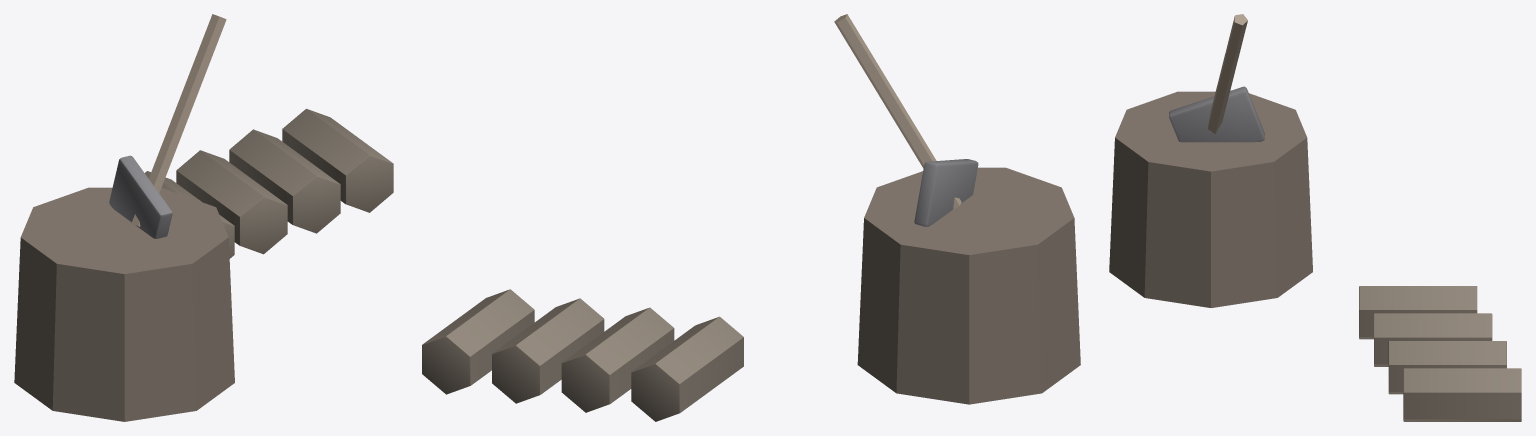
File: chopping_block.gltf
3 renders of one model, left to right at view 1: azimuth 30°, elevation 25°; view 2: azimuth 150°, elevation 25°; view 3: azimuth 270°, elevation 25°, orthographic. The views are drawn at different scales.
Visible parts, largest first — view 1: Body; view 2: Body; view 3: Body.
Part boxes in pixels (x1,y1,x2,y2): Body: [14, 14, 393, 421]; Body: [422, 14, 1080, 421]; Body: [1109, 14, 1521, 421].
Size of the model in its own units: 1.68 by 1.11 by 1.39.
